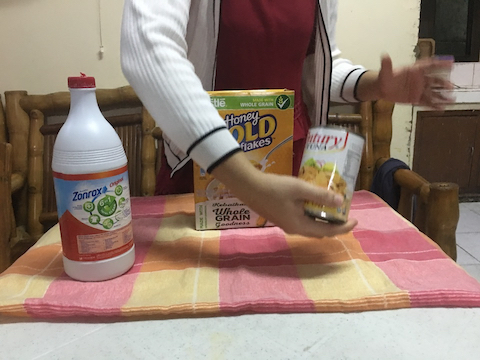bottle: (51, 72, 140, 283)
box: (188, 84, 298, 235)
can: (299, 124, 366, 223)
grab: (280, 190, 361, 244)
